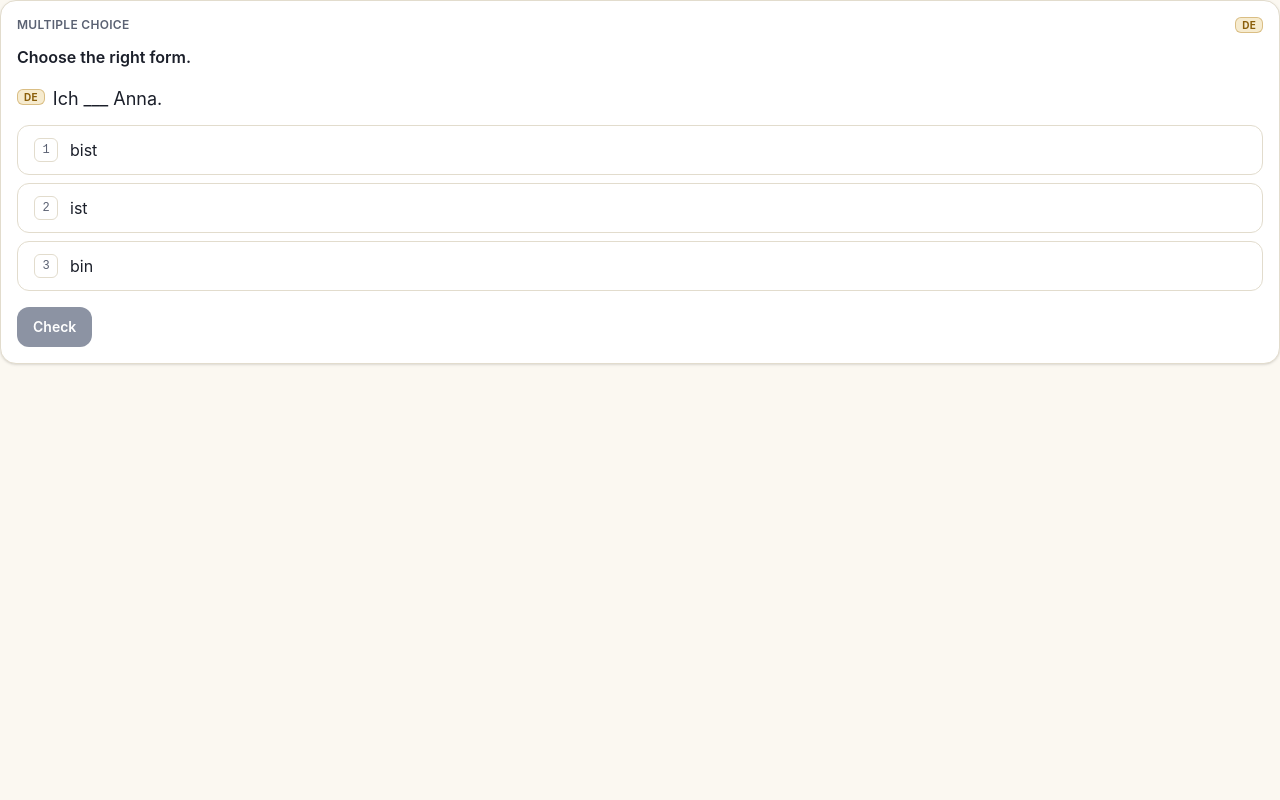
Test: ExercisePlayer — mcq › shows the solution for a wrong choice
The image size is (1280, 800).
Click the radio button labelled "ist" at (46, 208), box [17,183,1263,233]
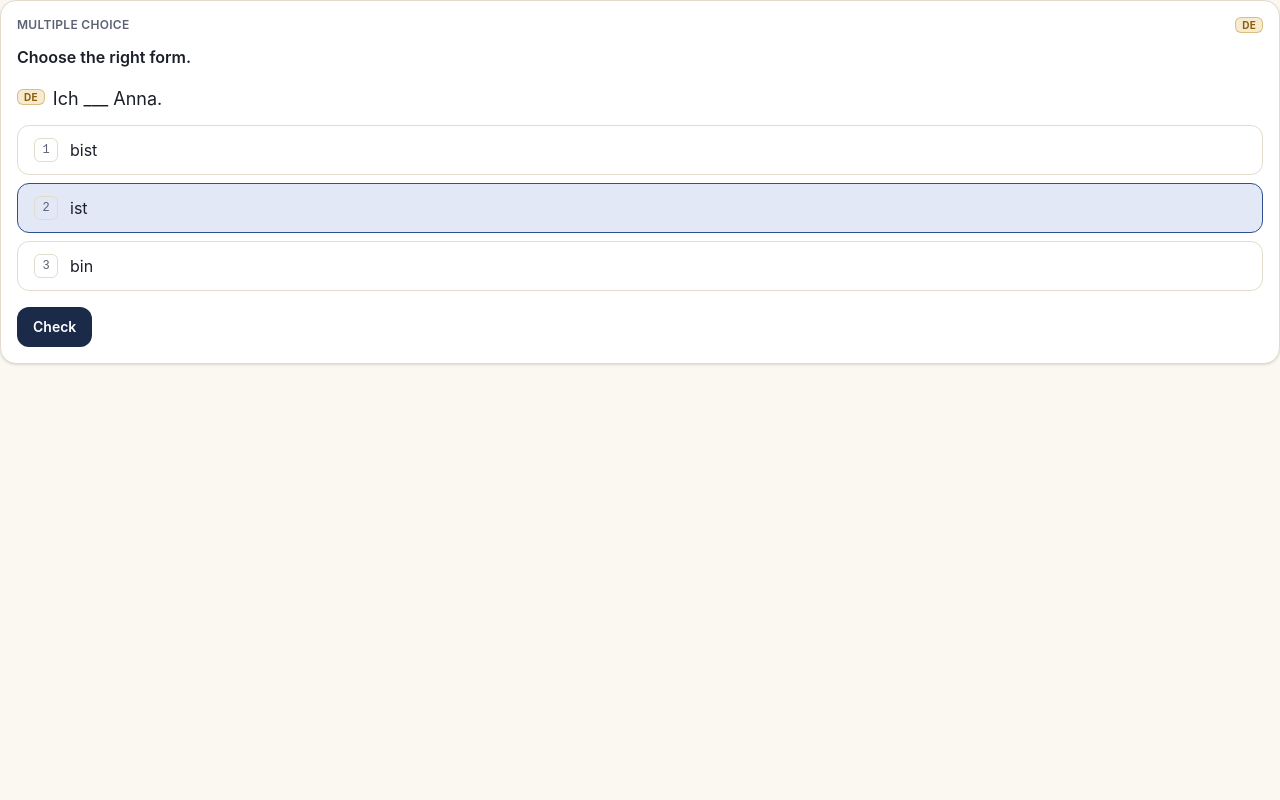
Click the button "Check" at (55, 327), box [17,307,92,347]
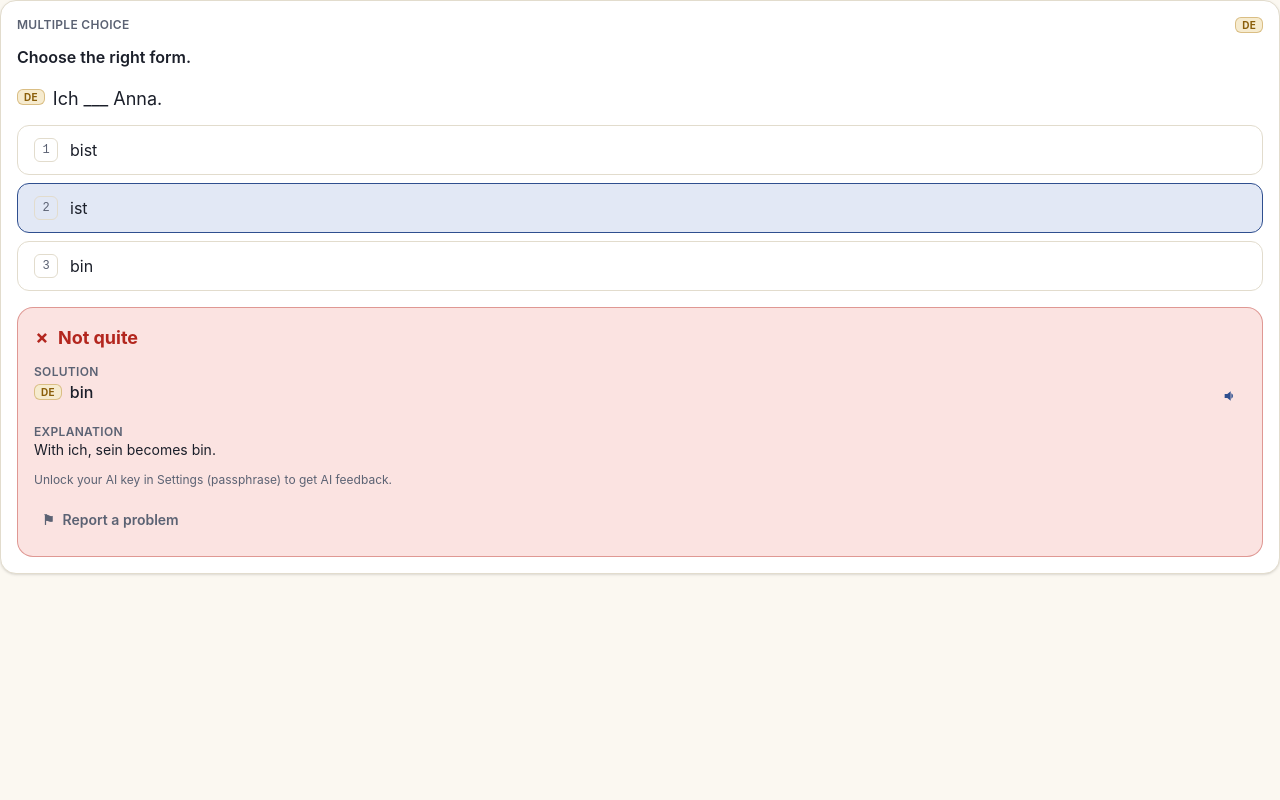
expect the text "Not quite" is shown: met, box [58,324,138,352]
expect the text "Solution" is shown: met, box [34,364,99,379]
